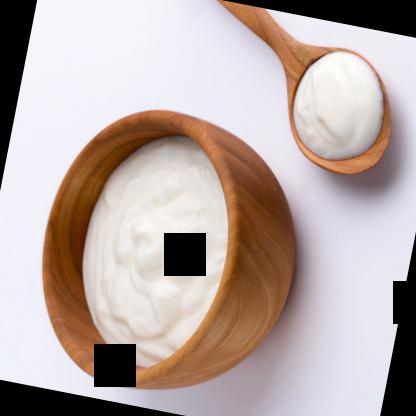yogurt: (60, 116, 252, 382), (282, 42, 396, 167)
